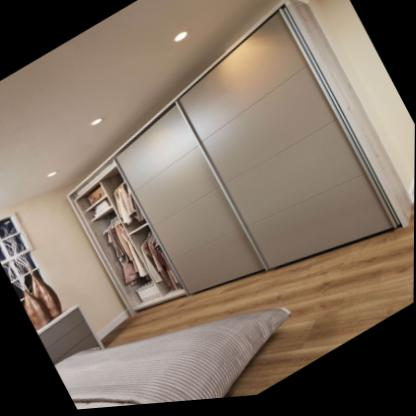Closet: (69, 0, 413, 318)
